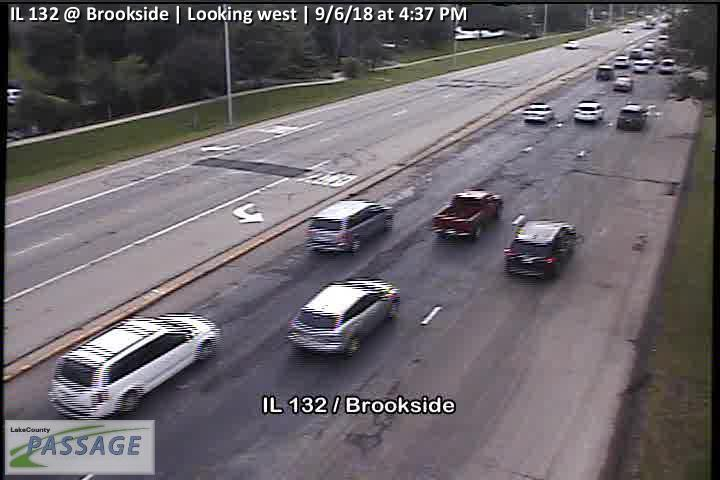SUV: (46, 310, 220, 422), (284, 274, 399, 357), (303, 199, 394, 253)
Sedan: (502, 214, 578, 278), (618, 105, 648, 131), (573, 100, 606, 122), (520, 103, 552, 125)
Truck: (432, 189, 502, 238)
